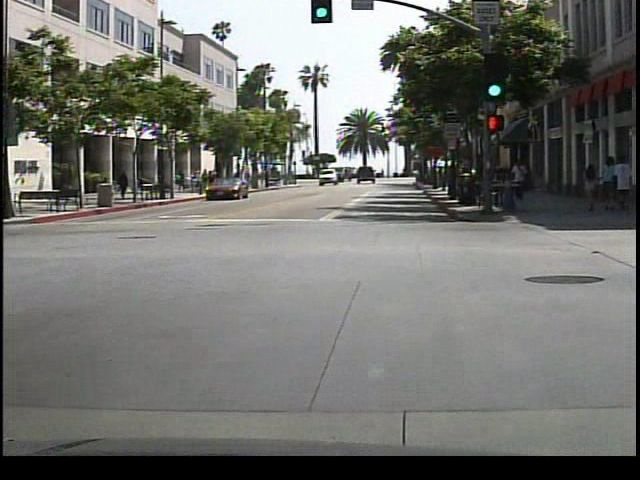person: (510, 155, 531, 205), (117, 169, 133, 201)
